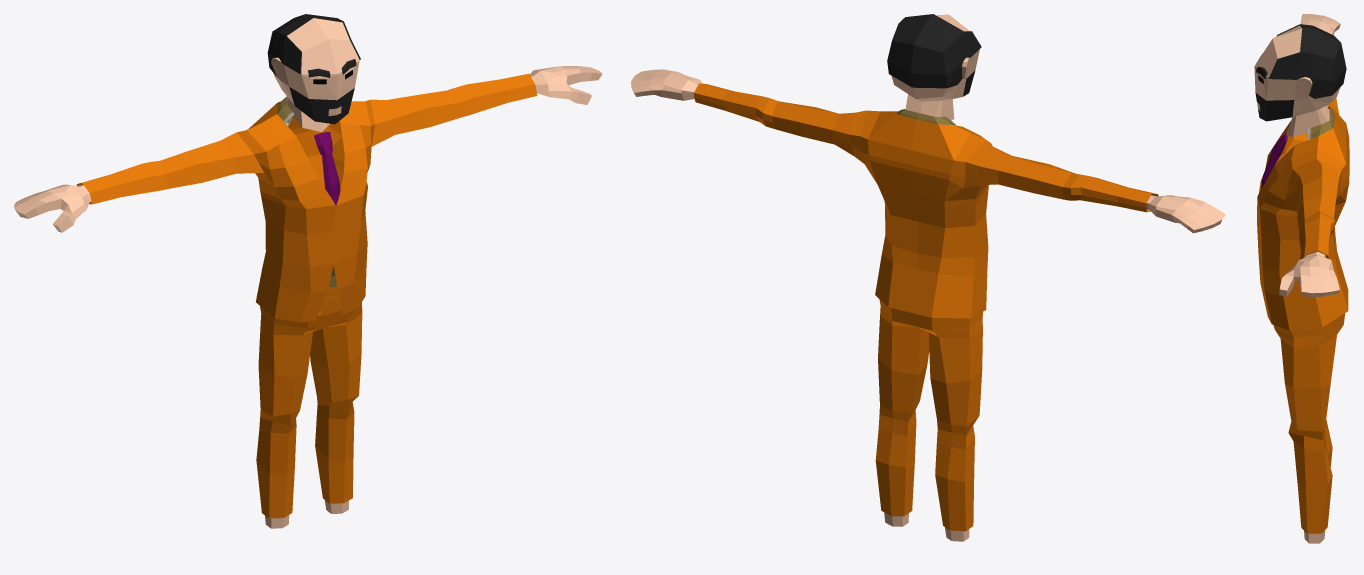
File: NPC_Naranja_Escenario2_Corbata.fbx
3 views of the same model, side by side, from view 1: azimuth 30°, elevation 25°; view 2: azimuth 150°, elevation 25°; view 3: azimuth 270°, elevation 25° (orthographic). The views are drawn at different scales.
Visible parts, largest first — view 1: Personaje; view 2: Personaje; view 3: Personaje.
Boxes of the visible parts, x1,y1,x2,y2 form: Personaje: (14, 14, 602, 528); Personaje: (631, 14, 1225, 541); Personaje: (1254, 14, 1349, 543).
Bounding box in the file's own units: 215 × 184 × 30.94.
